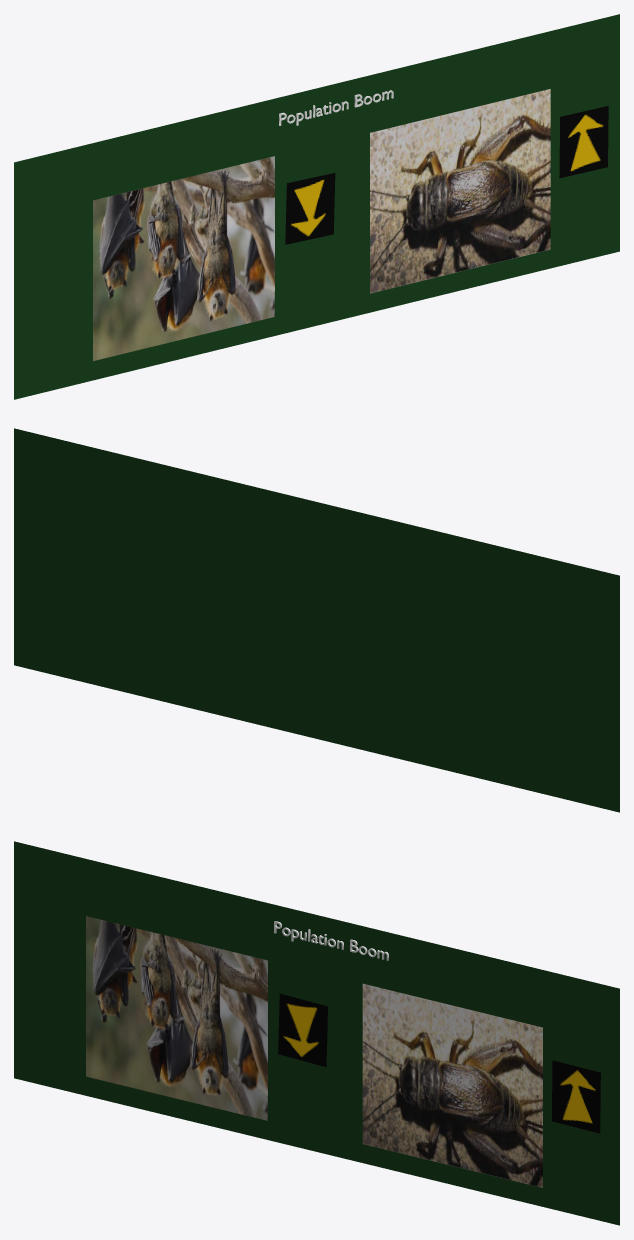
Rendered from cons3.gltf.
3 views of the same model, one above another, from view 1: azimuth 30°, elevation 25°; view 2: azimuth 150°, elevation 25°; view 3: azimuth 330°, elevation 25° (orthographic).
Parts seen in each view (by area): view 1: Plane.013, Plane, Plane.002, Plane.003, Plane.001, Text.008; view 2: Plane.013; view 3: Plane.013, Plane, Plane.002, Plane.001, Plane.003, Text.008.
Part boxes in pixels (box(x1,y1,x2,y2)): Plane.013: box(14, 14, 619, 399); Plane: box(93, 156, 274, 360); Plane.002: box(370, 89, 550, 293); Plane.003: box(559, 106, 608, 178); Plane.001: box(285, 173, 335, 244); Text.008: box(279, 90, 393, 125); Plane.013: box(14, 428, 619, 812); Plane.013: box(14, 841, 619, 1225); Plane: box(86, 916, 267, 1120); Plane.002: box(362, 983, 542, 1187); Plane.001: box(278, 993, 327, 1067); Plane.003: box(551, 1060, 600, 1133); Text.008: box(274, 921, 388, 960).
Bounding box in the file's own units: 15.94 × 5.96 × 0.1767.
Materials: 6 (4 with a texture image).
